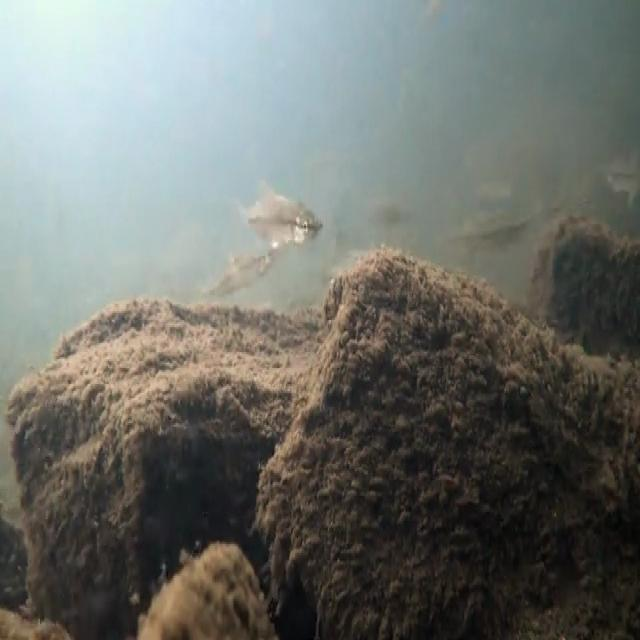Cakil Baligi: (236, 182, 324, 248)
